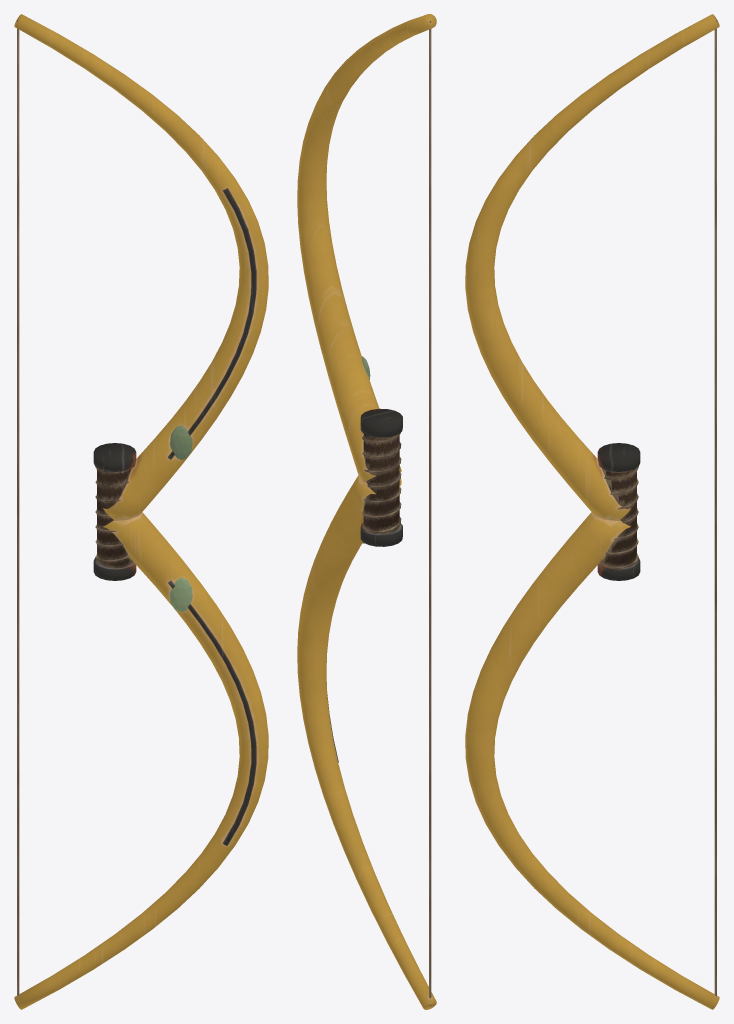
File: eq_bow_4.glb
3 views of the same model, side by side, from view 1: azimuth 90°, elevation 25°; view 2: azimuth 210°, elevation 25°; view 3: azimuth 270°, elevation 25° (orthographic).
Parts seen in each view (by area): view 1: eq_bow_4; view 2: eq_bow_4; view 3: eq_bow_4.
Part boxes in pixels (box(x1,y1,x2,y2)): eq_bow_4: box(14, 14, 268, 1009); eq_bow_4: box(297, 14, 436, 1009); eq_bow_4: box(465, 14, 719, 1009).
Size of the model in its own units: 0.0674 by 1.7 by 0.3942.
1 material, 1 textured.
